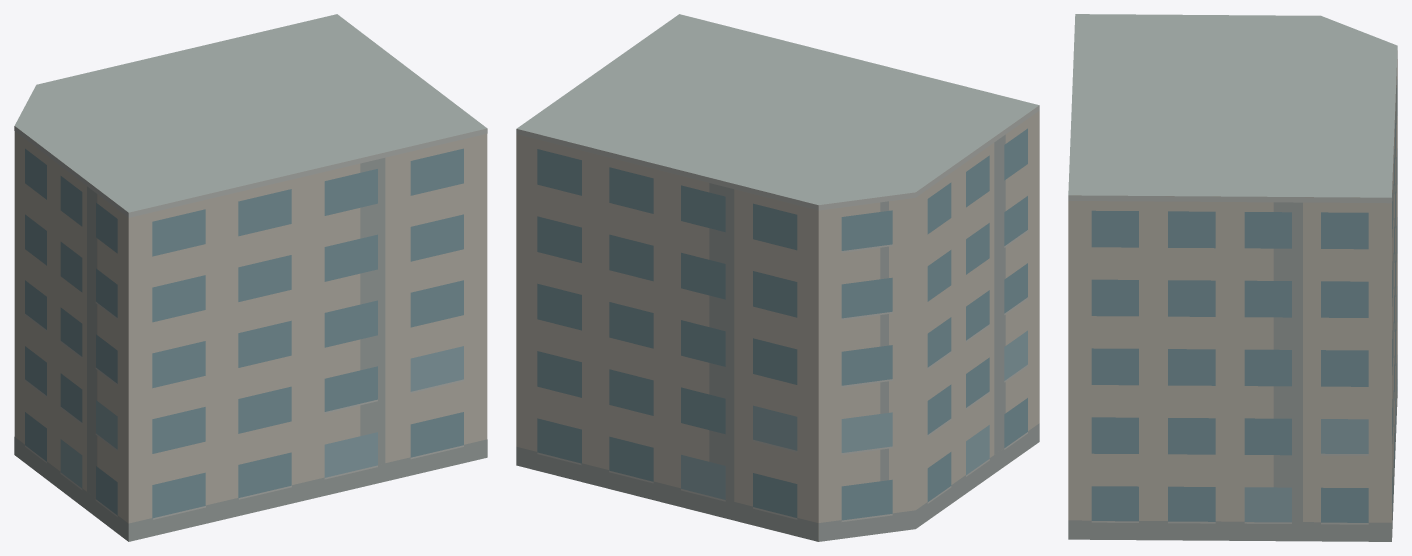
Rendered from residential-af4db997-6f47-4468-b37c-55f573276242.glb.
3 views of the same model, side by side, from view 1: azimuth 30°, elevation 25°; view 2: azimuth 150°, elevation 25°; view 3: azimuth 270°, elevation 25° (orthographic). The views are drawn at different scales.
Parts seen in each view (by area): view 1: residential-af4db997-6f47-4468-b37c-55f573276242.tmp; view 2: residential-af4db997-6f47-4468-b37c-55f573276242.tmp; view 3: residential-af4db997-6f47-4468-b37c-55f573276242.tmp.
Part boxes in pixels (left/top/right/bottom): residential-af4db997-6f47-4468-b37c-55f573276242.tmp: left=14, top=14, right=487, bottom=541; residential-af4db997-6f47-4468-b37c-55f573276242.tmp: left=516, top=14, right=1039, bottom=541; residential-af4db997-6f47-4468-b37c-55f573276242.tmp: left=1068, top=14, right=1397, bottom=541.
Bounding box in the file's own units: 17.46 × 15.25 × 13.24.
